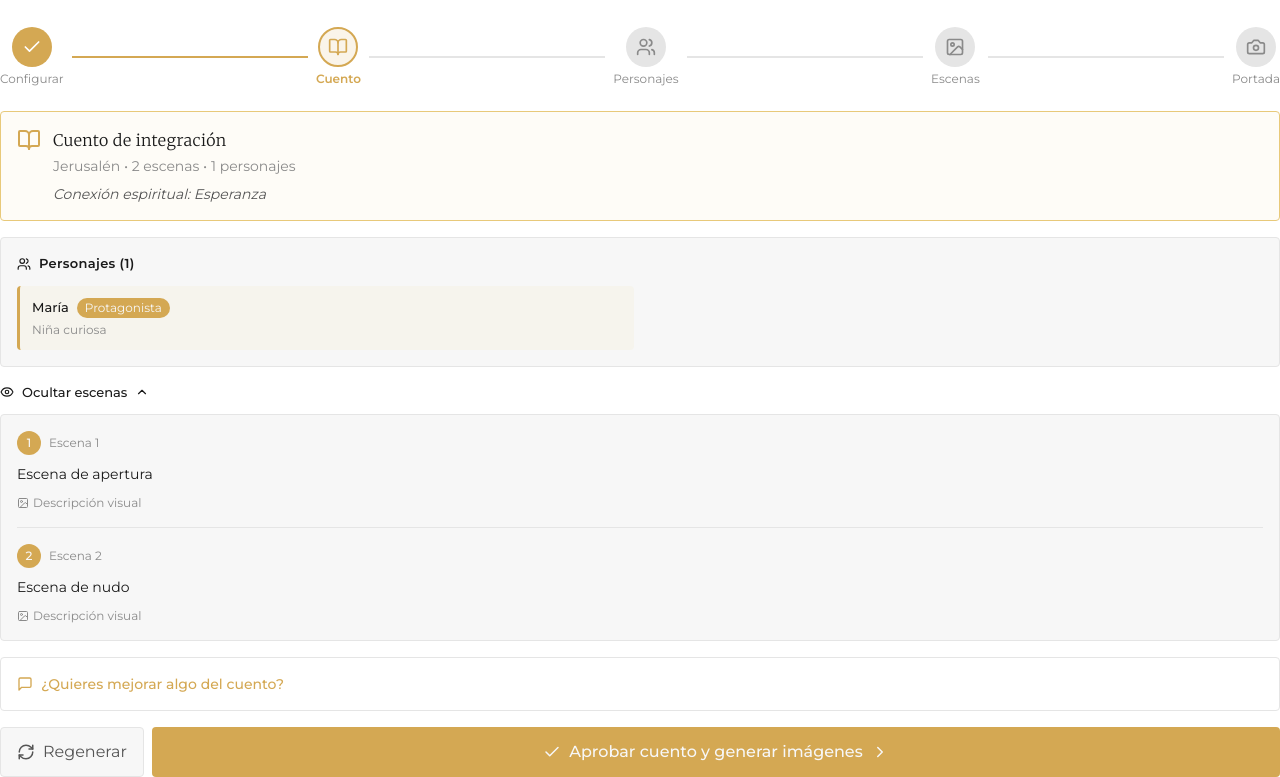
F3 (BASE-RED): refine during an in-flight approval makes the approval stale › the mid-approval refinement survives and the approval does not transition
This screenshot has width=1280, height=777.
(page scrolled)
Click the button "Aprobar cuento y generar imágenes": {"x": 716, "y": 752} [152,727,1279,776]
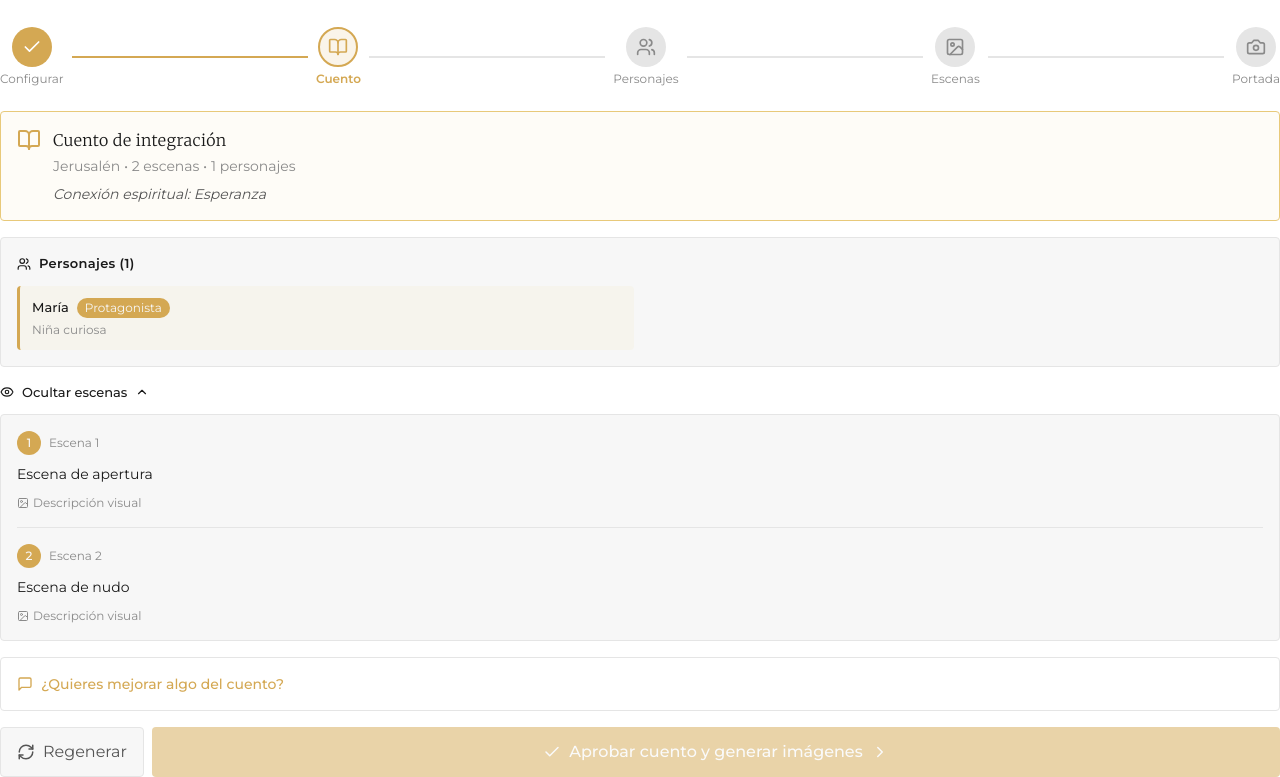
Note: While the approval upsert is in flight, refine the story through the UI.
Click the button "¿Quieres mejorar algo del cuento?": {"x": 150, "y": 684} [17,674,284,694]
(page scrolled)
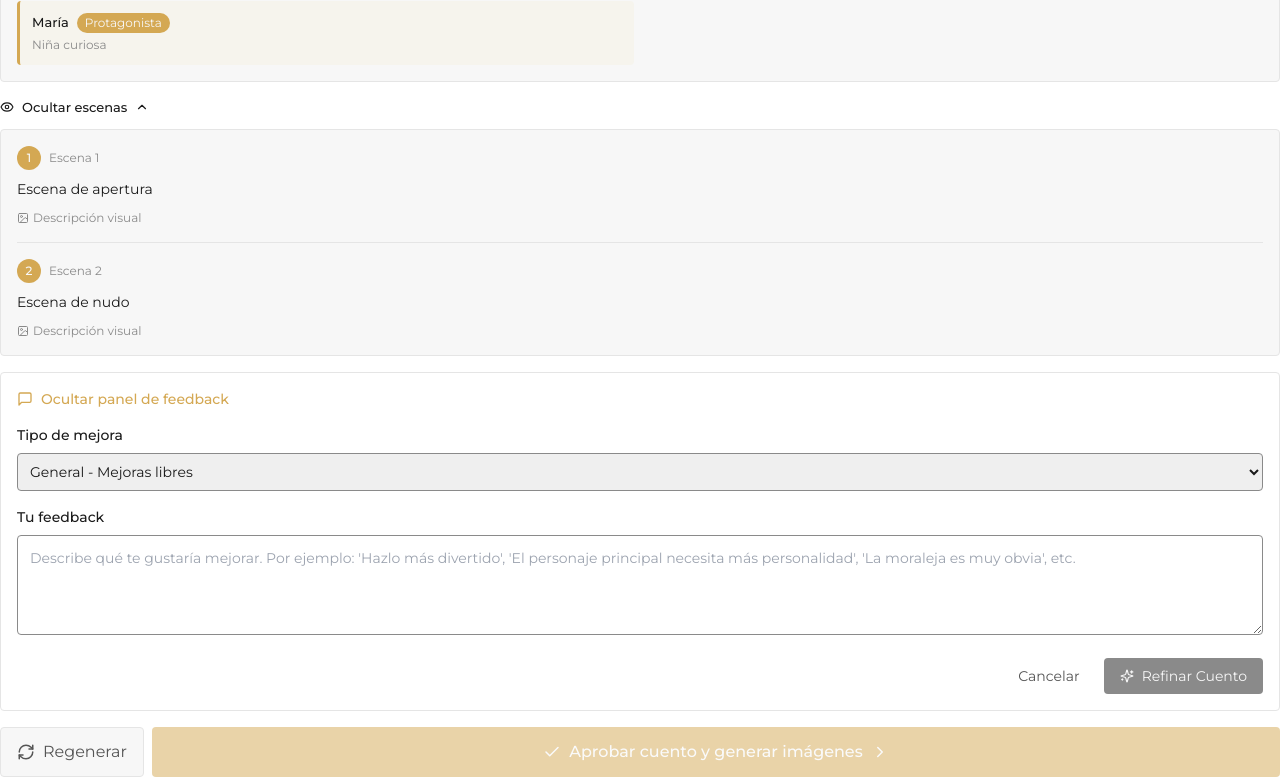
Replace the text in the text box with placeholder "Describe qué te gustaría mejorar" with "Hazlo más divertido": {"x": 640, "y": 585} [17,535,1263,635]
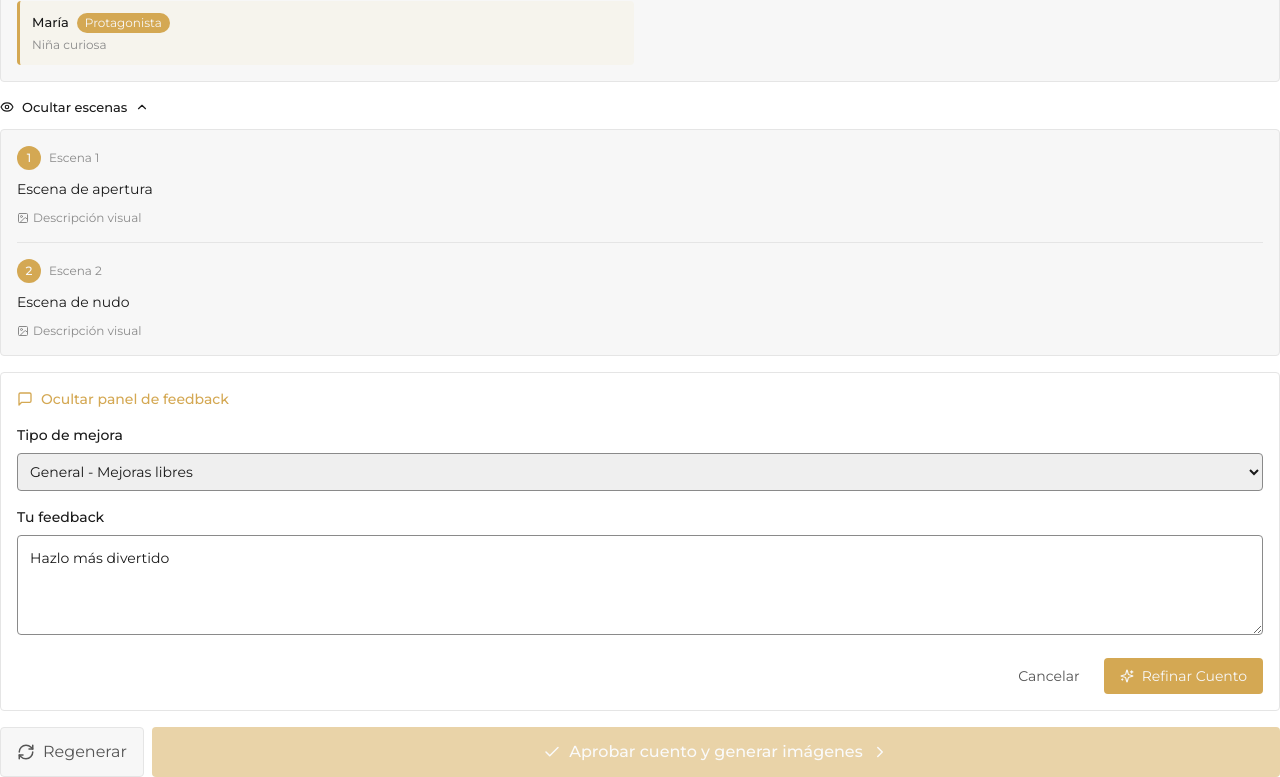
Click the button "Refinar Cuento": {"x": 1183, "y": 676} [1104,658,1263,694]
(page scrolled)
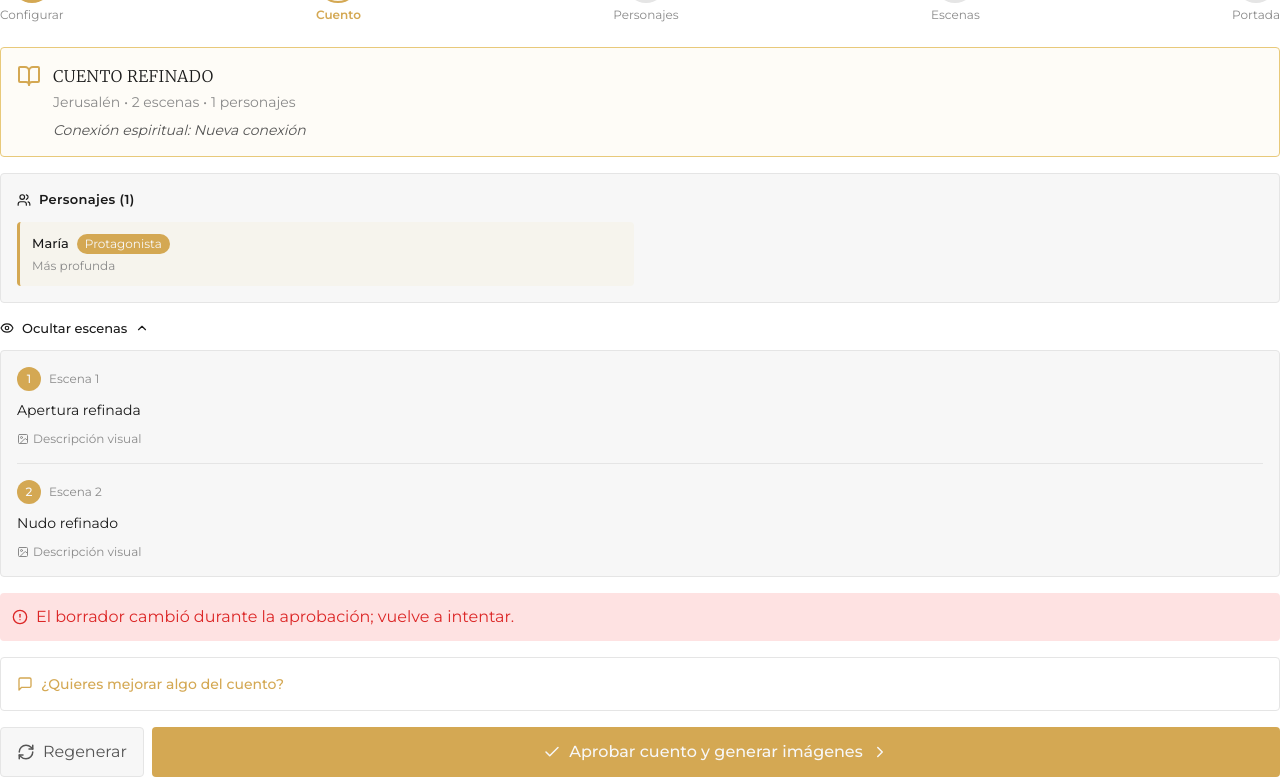
Check: the button "Aprobar cuento y generar imágenes" is shown, box [152,727,1279,776]
Check: the text "El borrador cambió durante la aprobación; vuelve a intentar." is shown, box [0,593,1279,641]
Check: the heading "CUENTO REFINADO" is shown, box [53,66,214,86]
